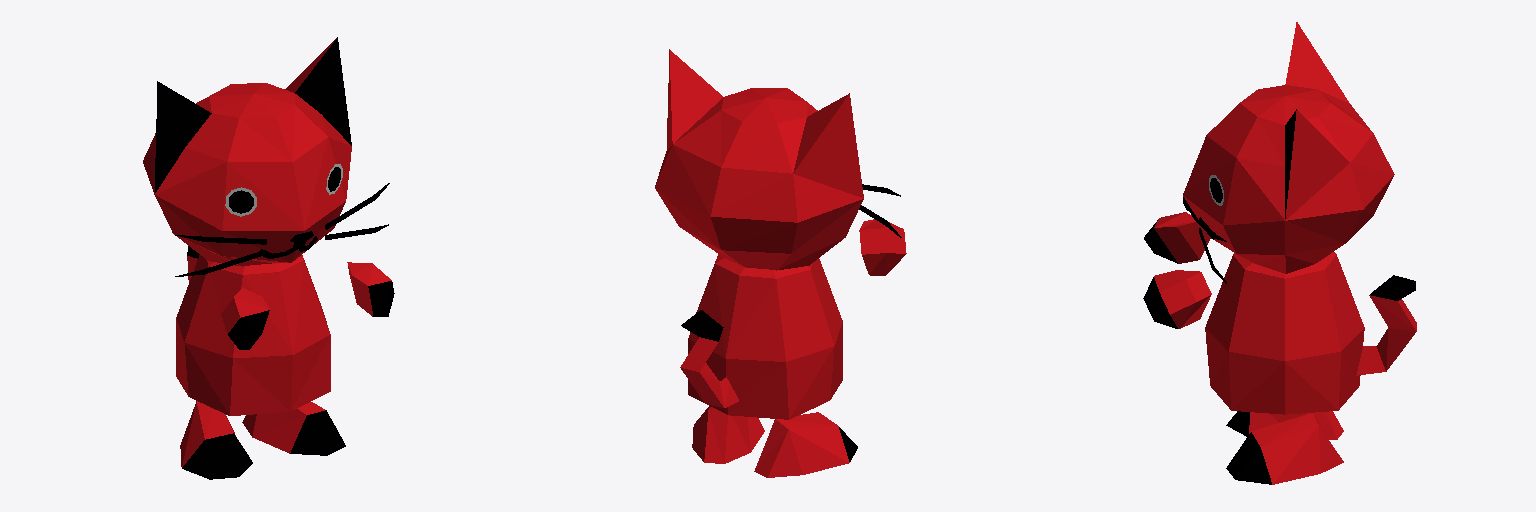
File: cat.obj
3 renders of one model, left to right at view 1: azimuth 30°, elevation 25°; view 2: azimuth 150°, elevation 25°; view 3: azimuth 270°, elevation 25°, orthographic.
Parts seen in each view (by area): view 1: Cat_Shape_IndexedFaceSet.023, Cat.001_Shape_IndexedFaceSet.000; view 2: Cat_Shape_IndexedFaceSet.023; view 3: Cat_Shape_IndexedFaceSet.023.
Boxes of the visible parts, x1,y1,x2,y2 form: Cat_Shape_IndexedFaceSet.023: [143, 37, 394, 479]; Cat.001_Shape_IndexedFaceSet.000: [175, 183, 389, 276]; Cat_Shape_IndexedFaceSet.023: [655, 49, 906, 477]; Cat_Shape_IndexedFaceSet.023: [1143, 22, 1416, 484].
Size of the model in its own units: 1.31 by 2.22 by 1.44.